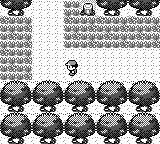captura: (65, 1, 159, 49), (1, 17, 32, 80)
main: (66, 61, 79, 75)
no-caminable: (1, 81, 159, 144), (96, 0, 159, 16), (1, 0, 32, 16), (80, 3, 96, 16)
